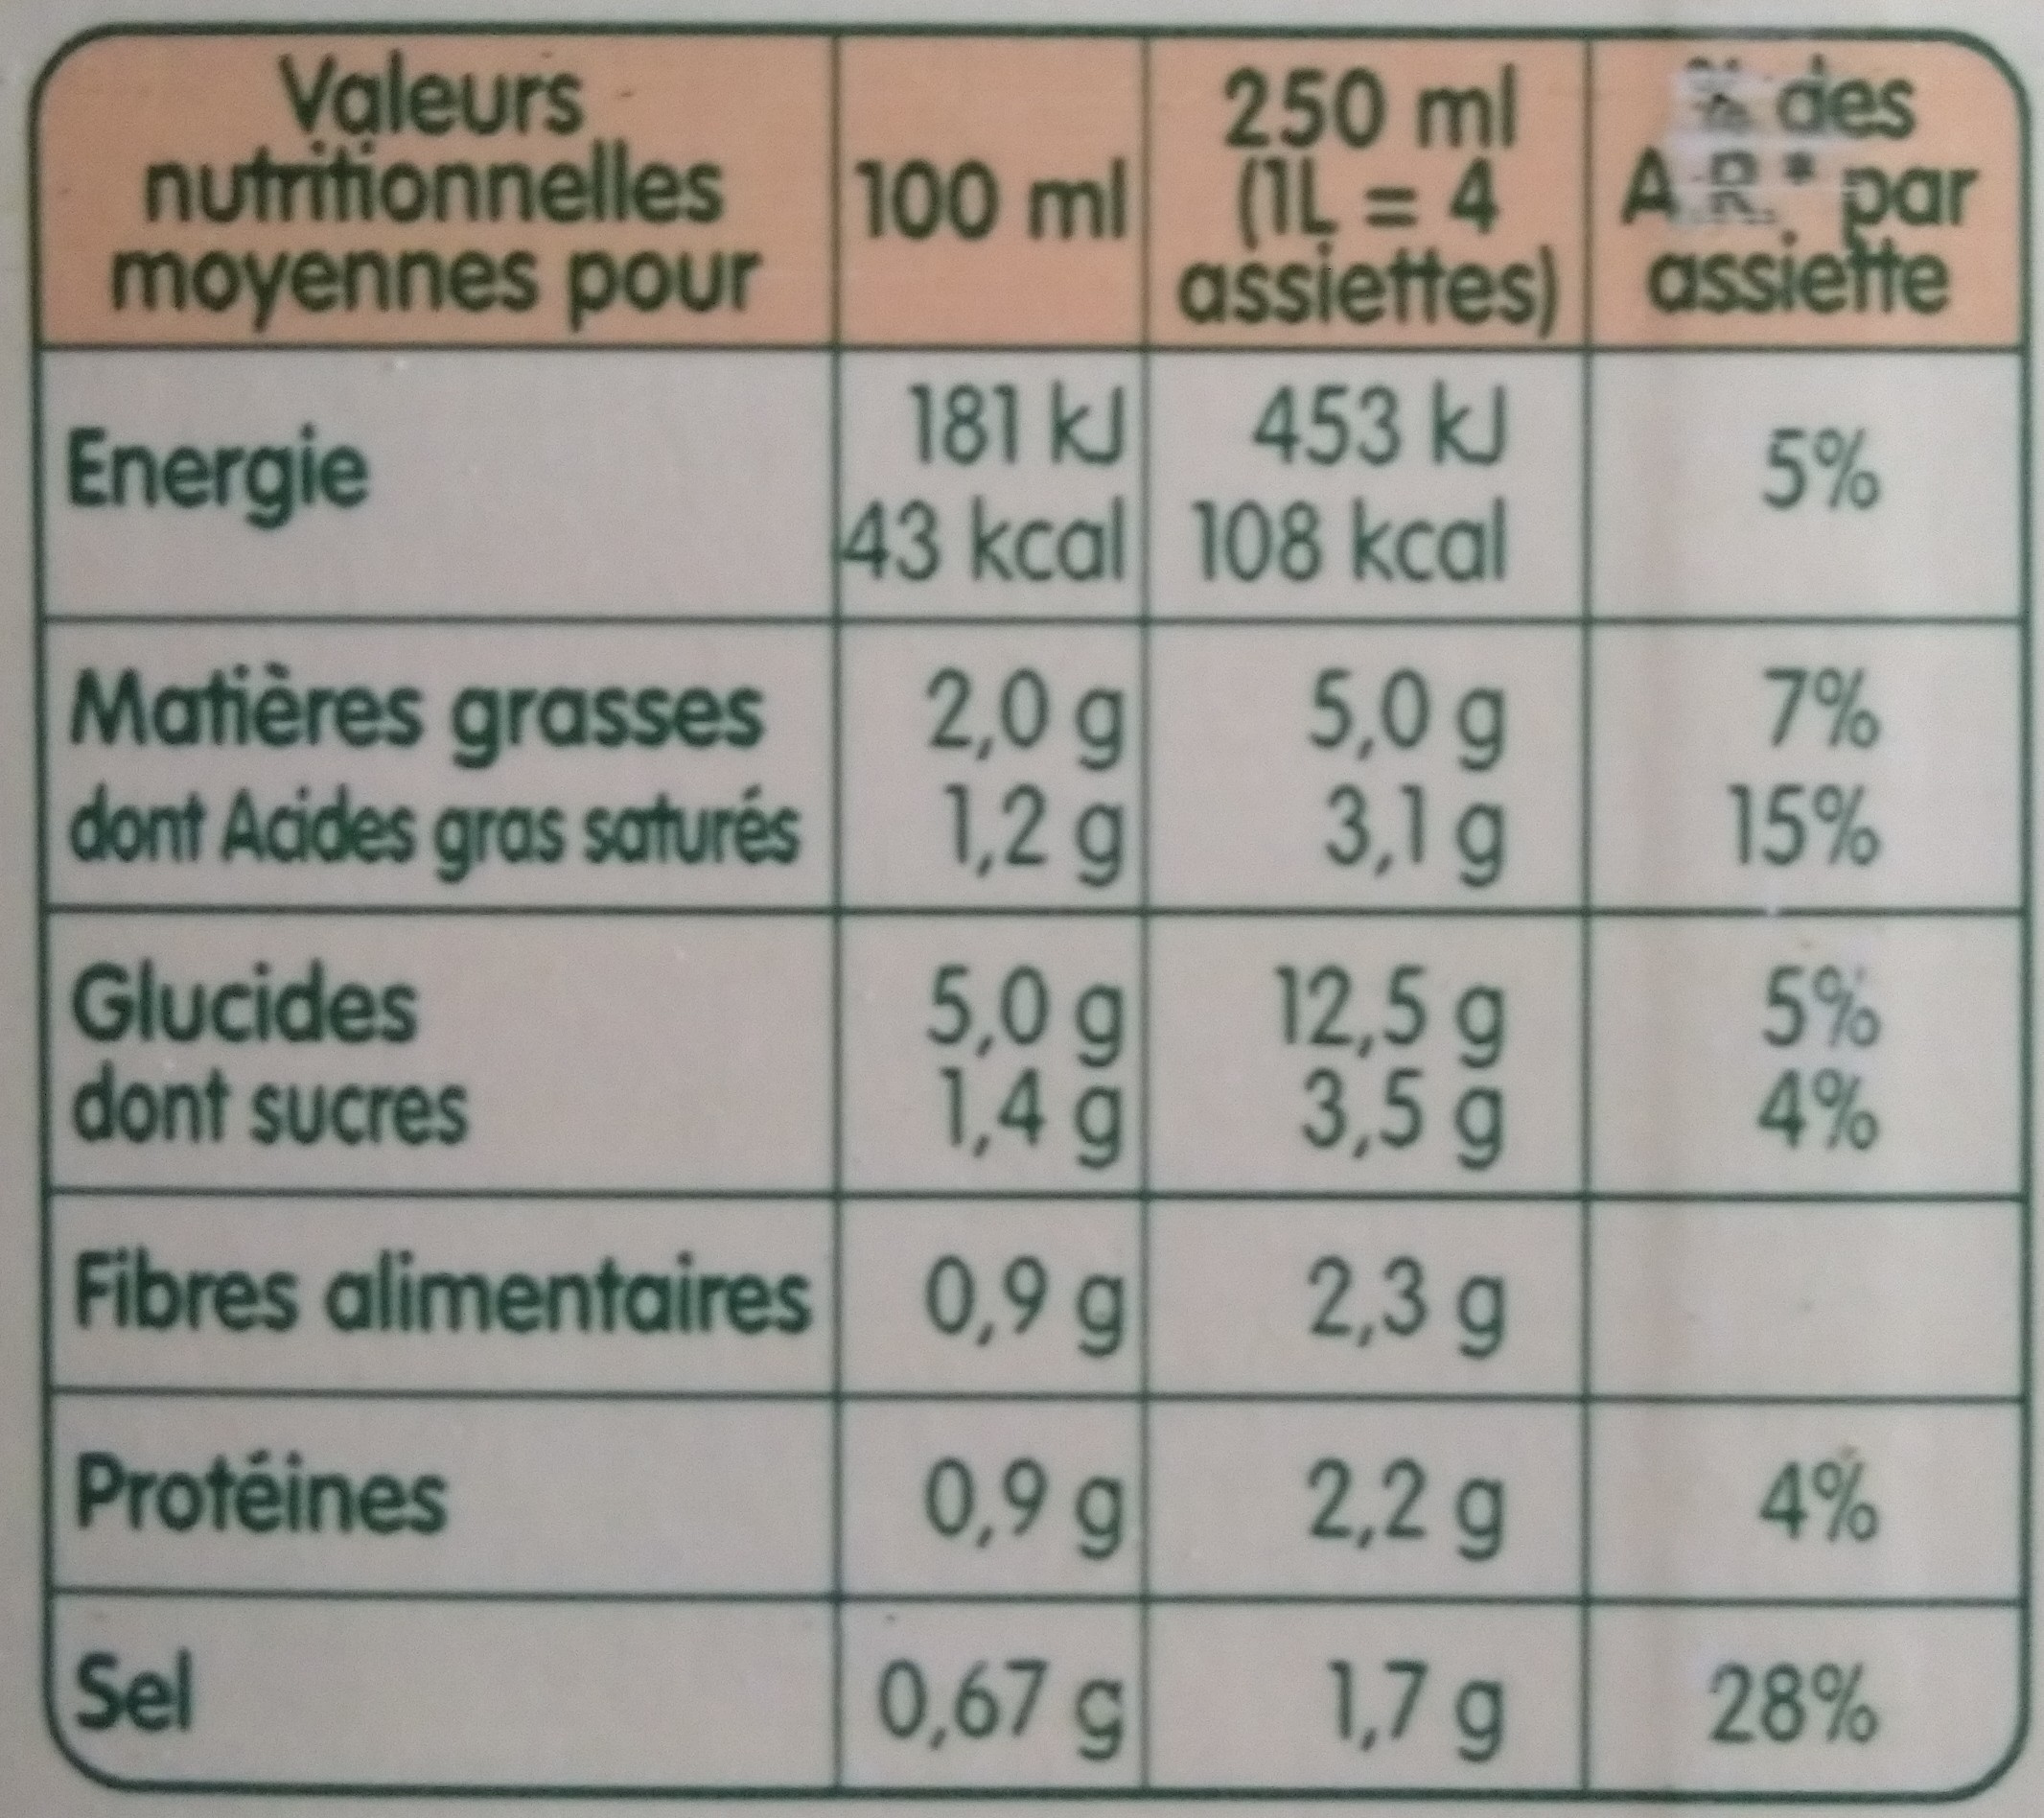column: (70, 49, 811, 1762), (1186, 58, 1563, 1762), (1614, 58, 1981, 1781), (853, 53, 1128, 1772)
table: (14, 18, 2030, 1806)
